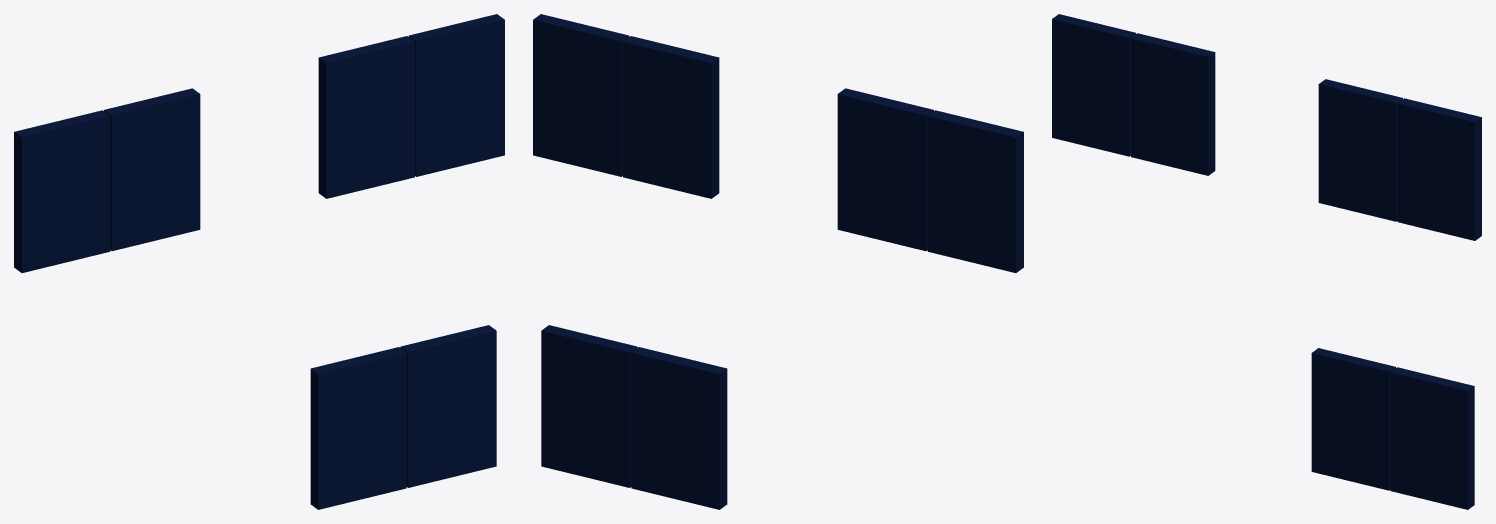
3 renders of one model, left to right at view 1: azimuth 30°, elevation 25°; view 2: azimuth 150°, elevation 25°; view 3: azimuth 330°, elevation 25°, orthographic. The views are drawn at different scales.
Parts seen in each view (by area): view 1: Cube.271; view 2: Cube.271; view 3: Cube.271.
Boxes of the visible parts, x1,y1,x2,y2 form: Cube.271: (14,14,504,509); Cube.271: (533,14,1023,509); Cube.271: (1052,14,1481,509).
Bounding box in the file's own units: 492 × 433 × 13.79.
